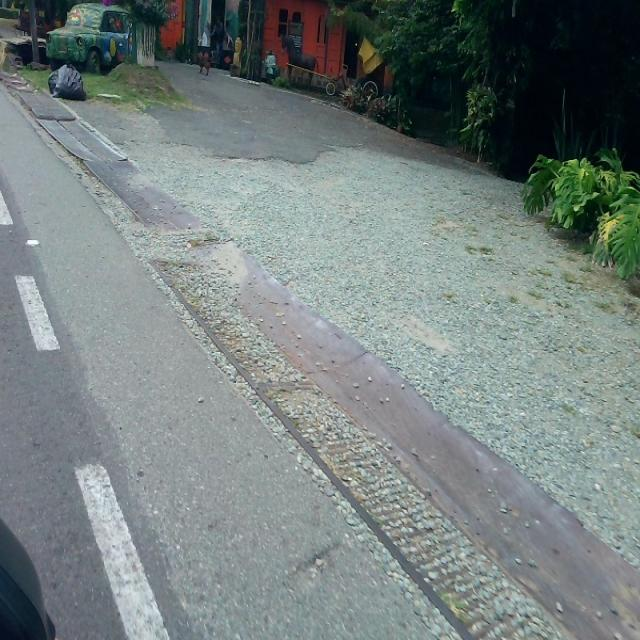DITCH: (2, 62, 638, 638)
